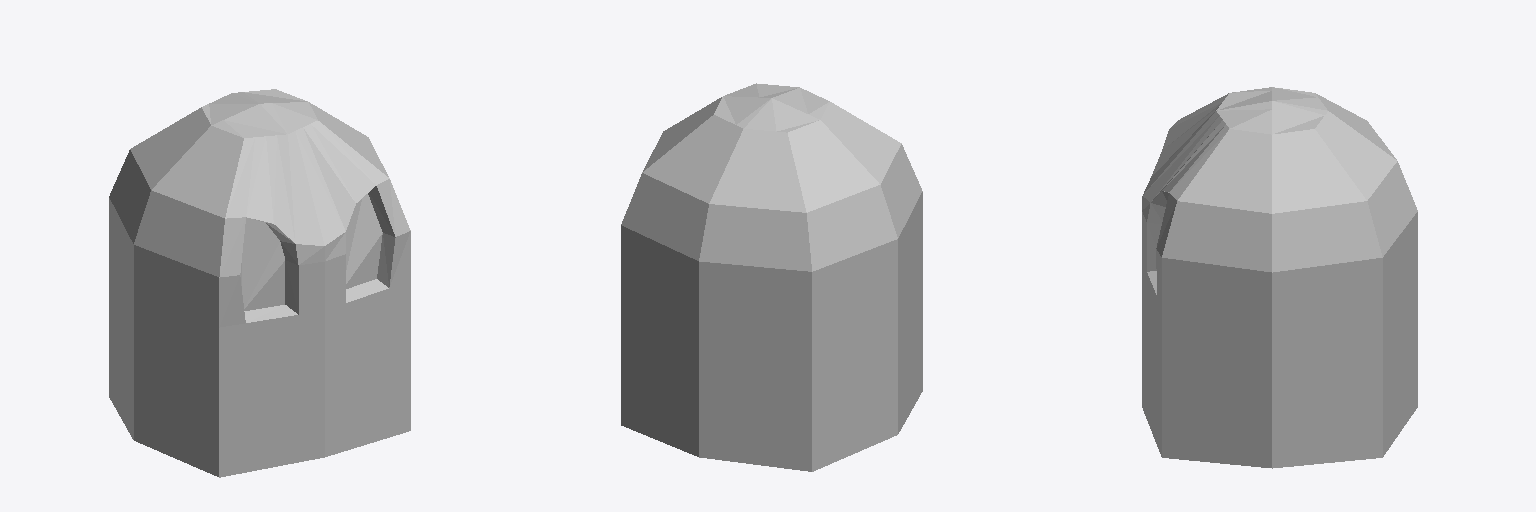
File: _ghost.obj
3 views of the same model, side by side, from view 1: azimuth 30°, elevation 25°; view 2: azimuth 150°, elevation 25°; view 3: azimuth 270°, elevation 25° (orthographic).
Parts seen in each view (by area): view 1: ghost; view 2: ghost; view 3: ghost.
Part boxes in pixels (x1,y1,x2,y2): ghost: (109, 89, 410, 477); ghost: (621, 83, 922, 471); ghost: (1142, 87, 1417, 468).
Bounding box in the file's own units: 2.64 × 3.1 × 2.5.